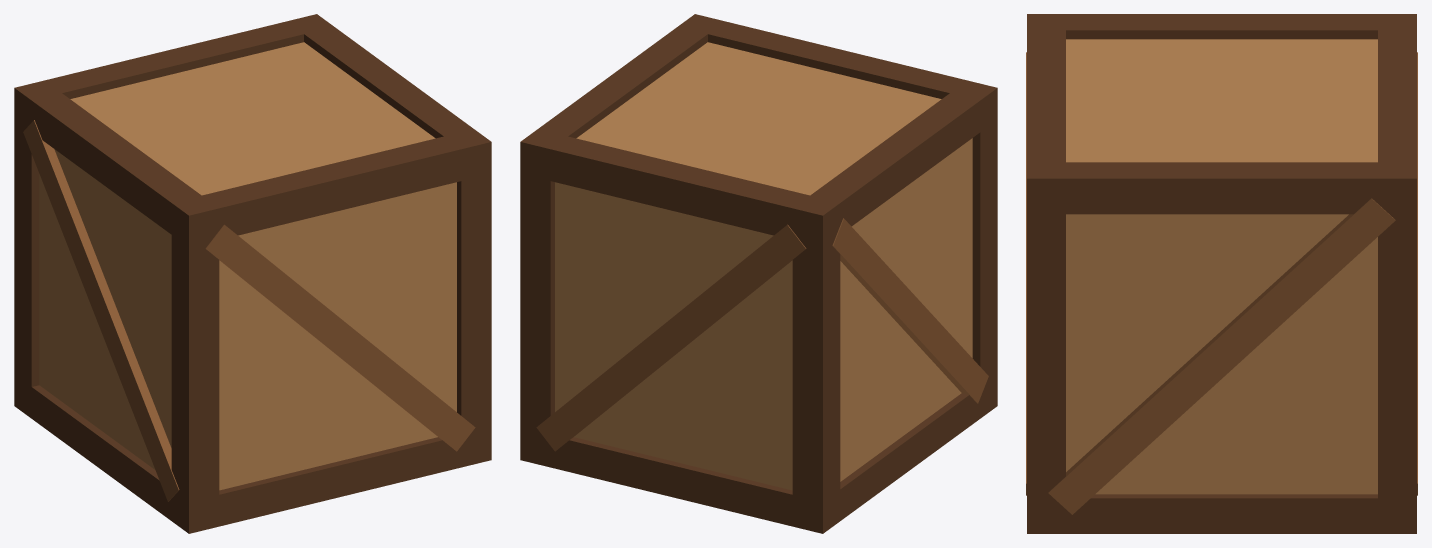
File: Crate.fbx
3 renders of one model, left to right at view 1: azimuth 30°, elevation 25°; view 2: azimuth 150°, elevation 25°; view 3: azimuth 270°, elevation 25°, orthographic. The views are drawn at different scales.
Visible parts, largest first — view 1: Crate; view 2: Crate; view 3: Crate.
Part boxes in pixels (x1,y1,x2,y2): Crate: (14, 14, 491, 533); Crate: (520, 14, 997, 533); Crate: (1026, 14, 1417, 533).
Bounding box in the file's own units: 4 × 4 × 4.
